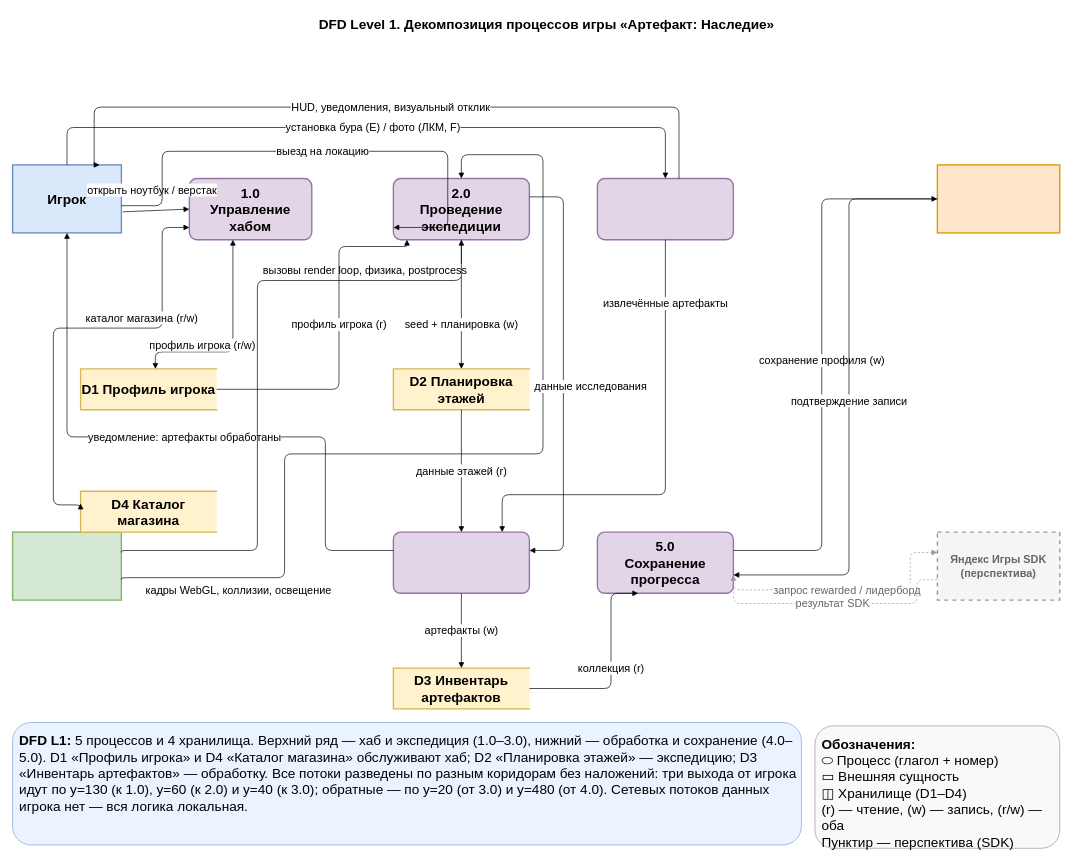
The diagram is 1072 pixels wide and 862 high, and some of its shapes have lost their labels. The box of each missing label's shape, as (x1, y1, x2, y2) in pixels:
3.0 Защита бура от аномалий: (596, 177, 734, 240)
4.0 Обработка артефактов: (392, 531, 530, 594)
localStorage: (936, 164, 1060, 233)
Браузер + WebGL: (12, 531, 122, 600)
